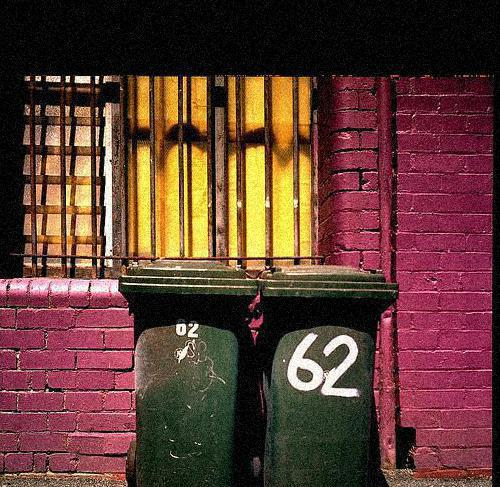Bote de Basura: (134, 255, 253, 487), (268, 260, 377, 487)
